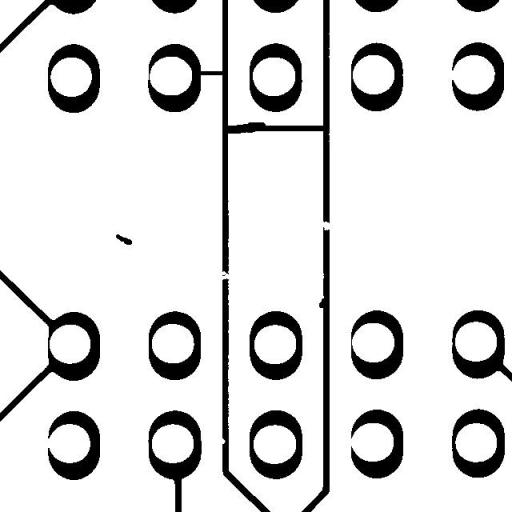copper: (108, 226, 139, 252)
mousebite: (213, 430, 233, 452)
open: (311, 214, 341, 238), (212, 263, 238, 287)
short: (216, 114, 332, 138), (189, 64, 232, 82)
spur: (311, 290, 334, 316)
